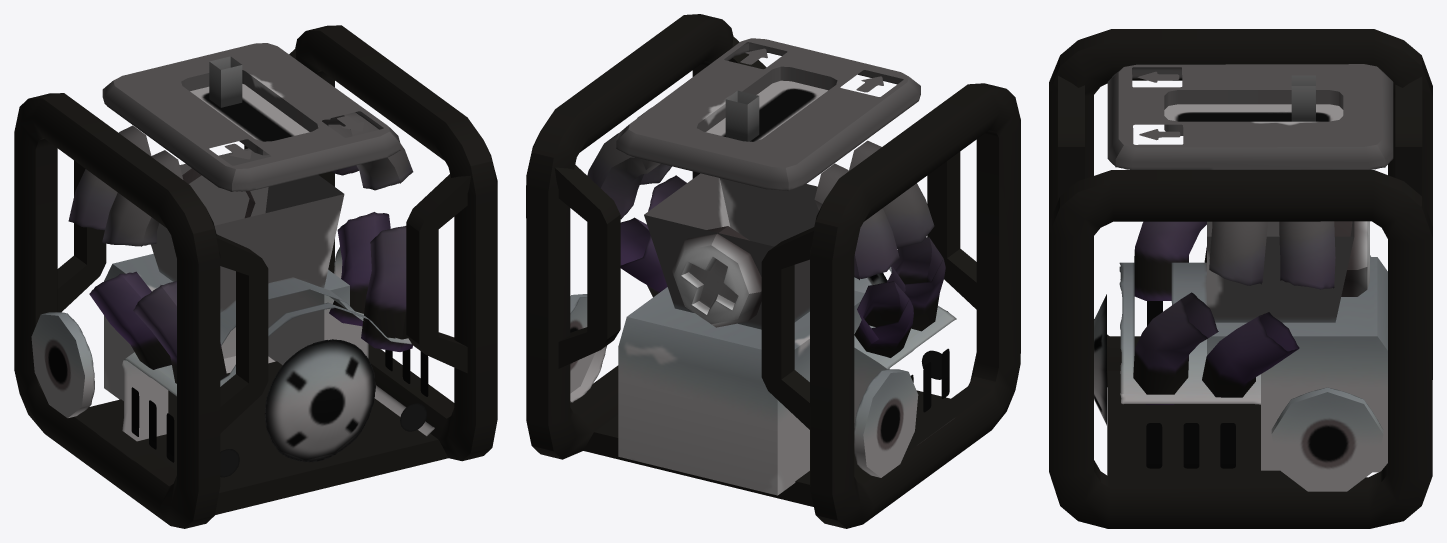
Rendered from obj_interactive_gasengine_02_off.fbx.
3 views of the same model, side by side, from view 1: azimuth 30°, elevation 25°; view 2: azimuth 150°, elevation 25°; view 3: azimuth 270°, elevation 25° (orthographic). The views are drawn at different scales.
Parts seen in each view (by area): view 1: obj_interactive_gasengine_02_off; view 2: obj_interactive_gasengine_02_off; view 3: obj_interactive_gasengine_02_off.
Boxes of the visible parts, left/top/right/bottom form: obj_interactive_gasengine_02_off: left=14, top=25, right=497, bottom=528; obj_interactive_gasengine_02_off: left=526, top=14, right=1020, bottom=528; obj_interactive_gasengine_02_off: left=1049, top=29, right=1432, bottom=528.
Bounding box in the file's own units: 2.05 × 2.4 × 2.04.
